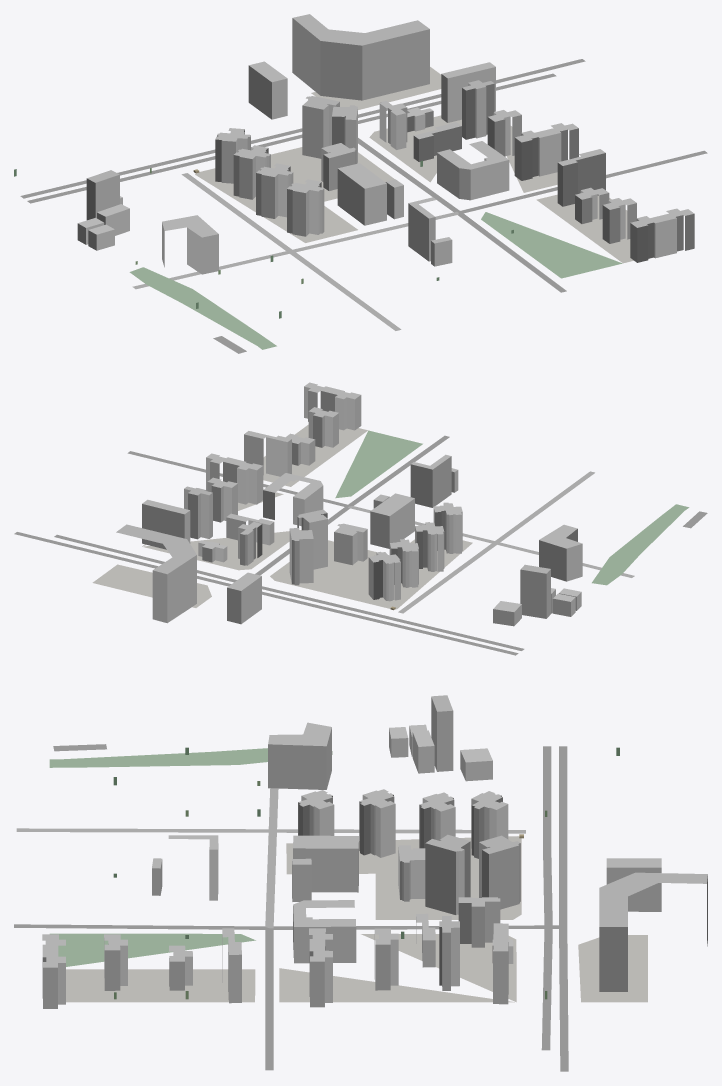
3 views of the same model, one above another, from view 1: azimuth 30°, elevation 25°; view 2: azimuth 150°, elevation 25°; view 3: azimuth 270°, elevation 25° (orthographic). The views are drawn at different scales.
Size of the model in its own units: 653 by 60.07 by 580.
